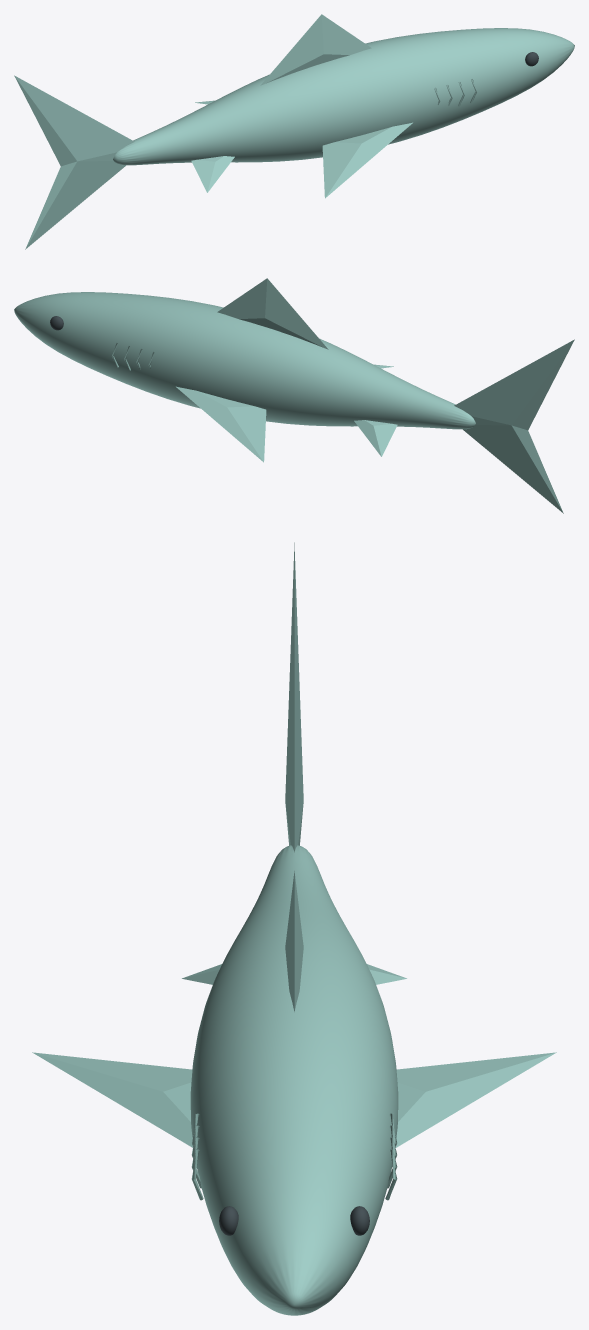
The picture shows the model from 3 angles, top to bottom: view 1: azimuth 30°, elevation 25°; view 2: azimuth 150°, elevation 25°; view 3: azimuth 270°, elevation 25°; orthographic projection. The views are drawn at different scales.
Parts seen in each view (by area): view 1: Body, Tail, Dorsal, Pectoral, Pelvic; view 2: Body, Tail, Dorsal, Pectoral.001, Pelvic.001; view 3: Body, Pectoral.001, Pectoral, Tail, Dorsal.
Boxes of the visible parts, left/top/right/bottom form: Body: left=113, top=28, right=574, bottom=165; Tail: left=14, top=75, right=134, bottom=249; Dorsal: left=260, top=14, right=371, bottom=85; Pectoral: left=322, top=122, right=412, bottom=198; Pelvic: left=191, top=156, right=234, bottom=192; Body: left=14, top=292, right=475, bottom=429; Tail: left=454, top=339, right=574, bottom=513; Dorsal: left=217, top=278, right=328, bottom=349; Pectoral.001: left=176, top=386, right=266, bottom=462; Pelvic.001: left=354, top=420, right=397, bottom=456; Body: left=190, top=845, right=398, bottom=1315; Pectoral.001: left=395, top=1052, right=556, bottom=1147; Pectoral: left=32, top=1052, right=192, bottom=1147; Tail: left=285, top=542, right=303, bottom=852; Dorsal: left=285, top=871, right=303, bottom=1011.
Bounding box in the file's own units: 252 × 76 × 102.
